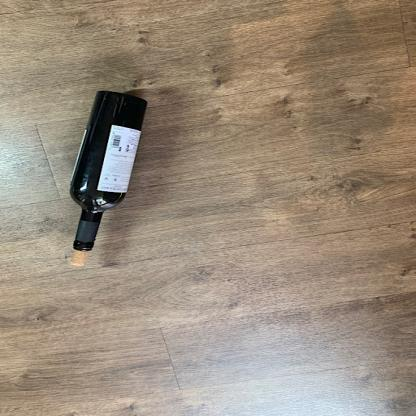trash: (69, 90, 150, 257)
